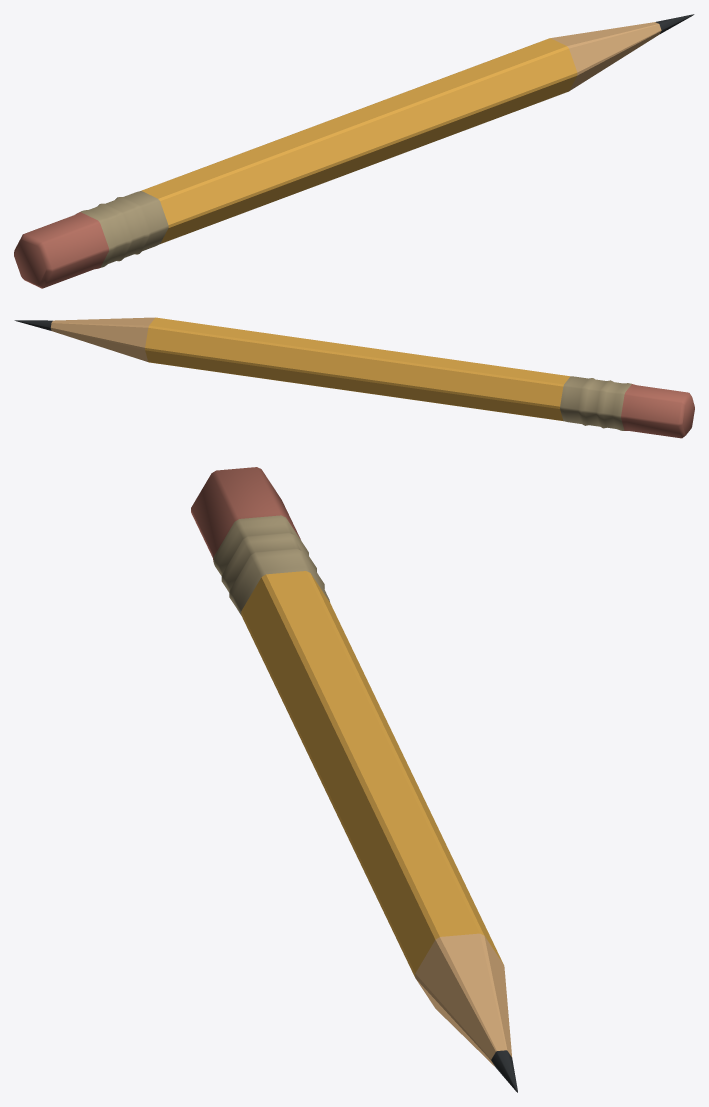
The model's file is yellow_pencil_v16.glb.
3 renders of one model, top to bottom at view 1: azimuth 30°, elevation 25°; view 2: azimuth 150°, elevation 25°; view 3: azimuth 270°, elevation 25°, orthographic. The views are drawn at different scales.
Visible parts, largest first — view 1: yellow_continuous_pencil; view 2: yellow_continuous_pencil; view 3: yellow_continuous_pencil.
Part boxes in pixels (x1=…): yellow_continuous_pencil: x1=14, y1=14, x2=694, y2=288; yellow_continuous_pencil: x1=14, y1=317, x2=694, y2=438; yellow_continuous_pencil: x1=191, y1=467, x2=517, y2=1092.
Bounding box in the file's own units: 0.8968 × 0.0556 × 0.2089.
